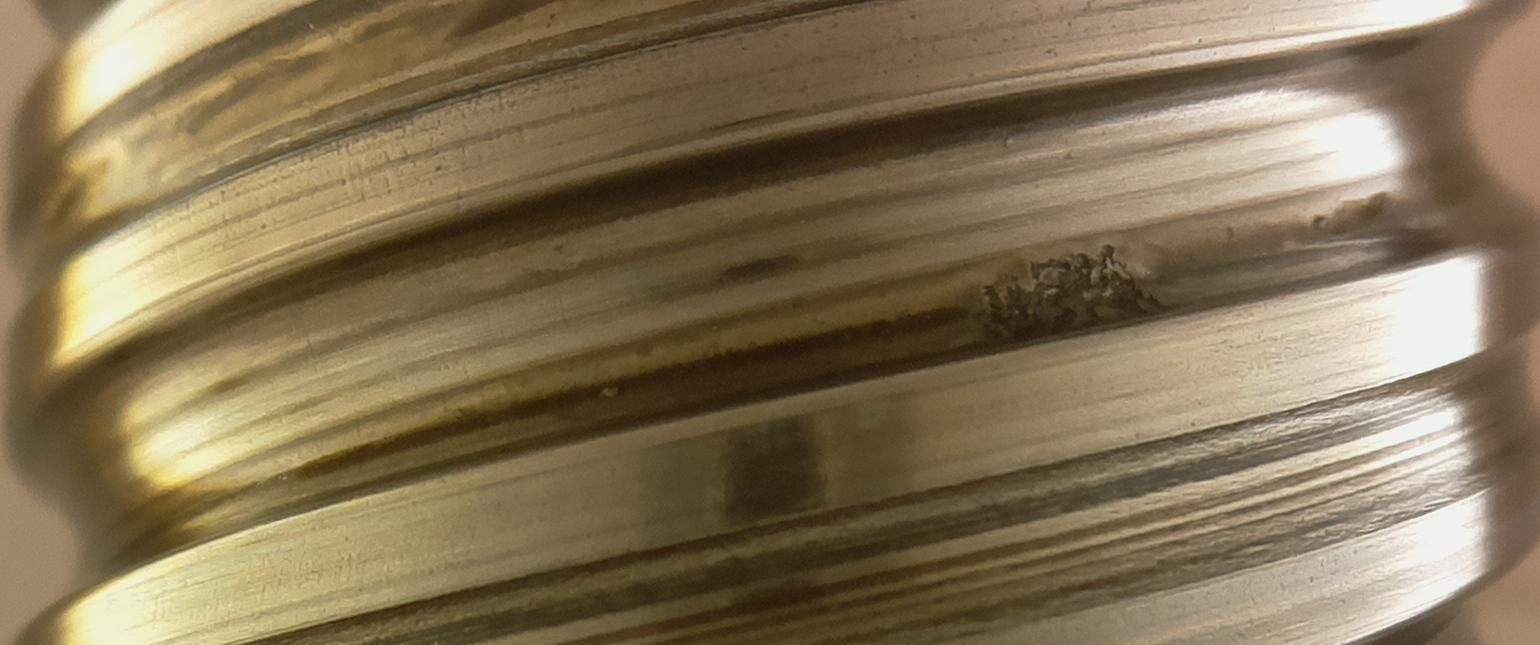pitting: (974, 244, 1171, 351)
